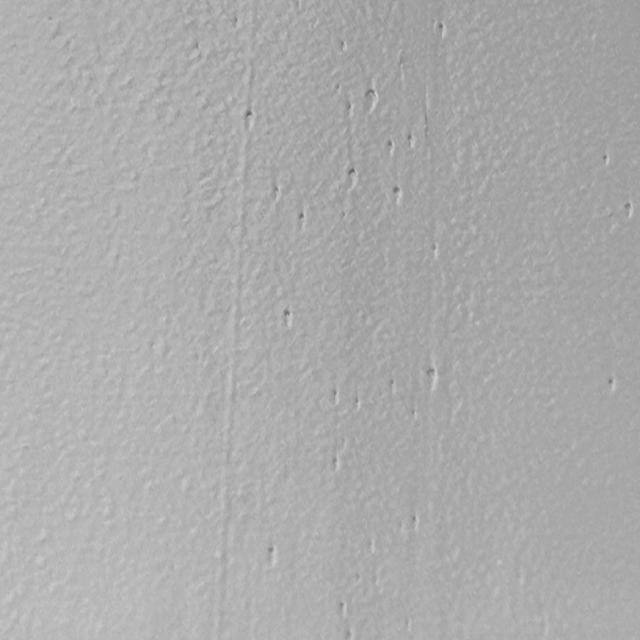pin holes: (263, 543, 281, 569), (364, 87, 381, 114), (422, 364, 439, 390), (333, 599, 351, 623), (621, 199, 638, 222), (241, 109, 257, 133), (282, 308, 297, 330), (392, 185, 405, 208), (330, 454, 344, 474), (346, 164, 358, 187), (408, 512, 421, 532), (330, 388, 343, 408), (606, 374, 620, 392), (598, 153, 612, 170), (337, 39, 350, 56), (298, 213, 310, 231), (344, 99, 354, 120), (271, 185, 282, 204), (230, 14, 243, 30), (384, 140, 396, 157), (436, 22, 448, 39), (405, 133, 417, 150), (389, 378, 397, 398), (354, 397, 361, 413), (432, 244, 438, 258), (411, 410, 417, 422)
